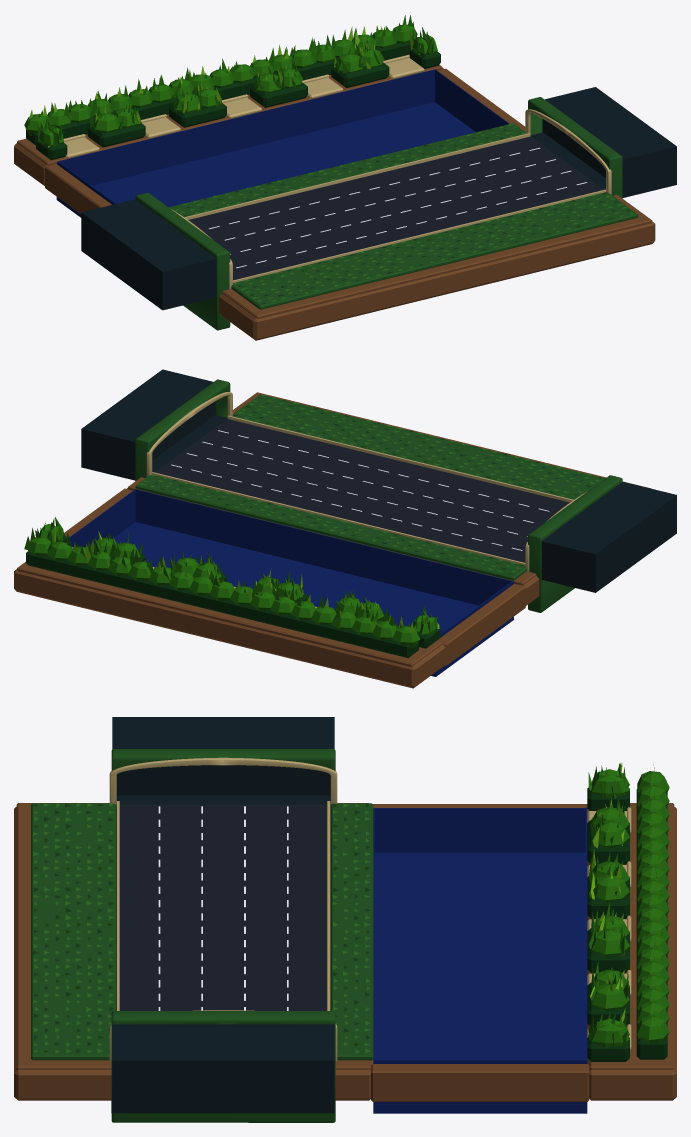
The model's file is board.glb.
The picture shows the model from 3 angles, top to bottom: view 1: azimuth 30°, elevation 25°; view 2: azimuth 150°, elevation 25°; view 3: azimuth 270°, elevation 25°; orthographic projection. The views are drawn at different scales.
Parts seen in each view (by area): view 1: Lower soil base; view 2: Lower soil base; view 3: Lower soil base.
Part boxes in pixels (x1,y1,x2,y2): Lower soil base: [14, 15, 676, 340]; Lower soil base: [14, 369, 676, 688]; Lower soil base: [14, 717, 676, 1122].
Bounding box in the file's own units: 19 × 2.75 × 15.5.
